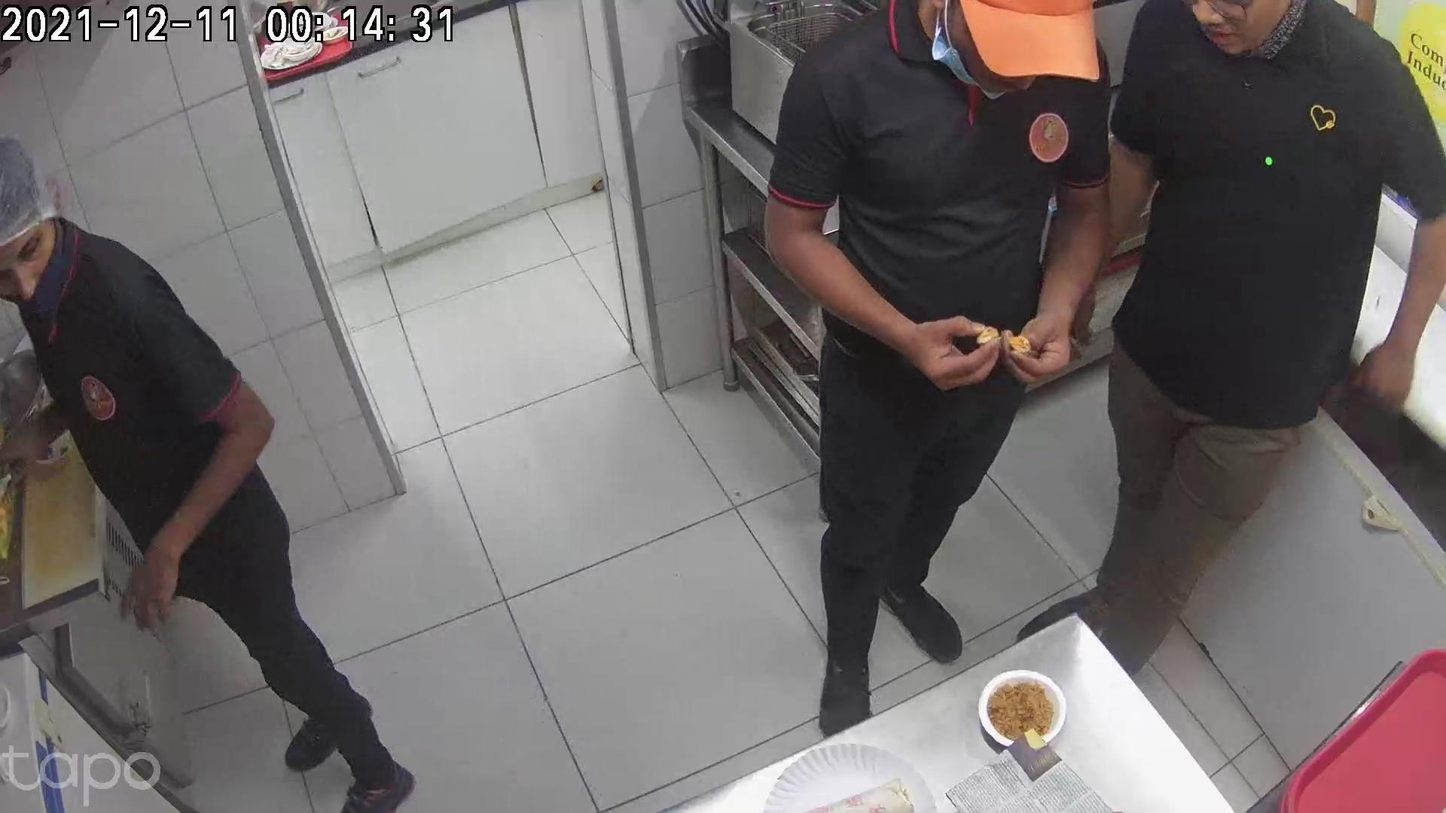no_gloves: (428, 373, 537, 463), (595, 303, 664, 409)
